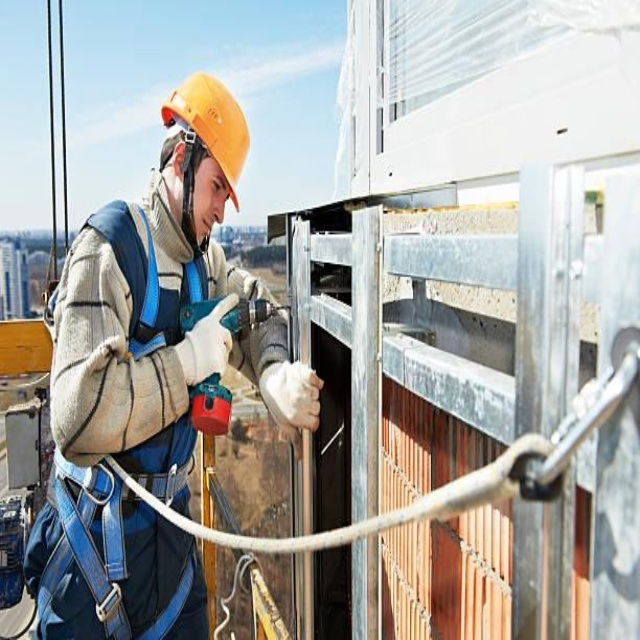Arnes_seguridad: (23, 200, 207, 634)
